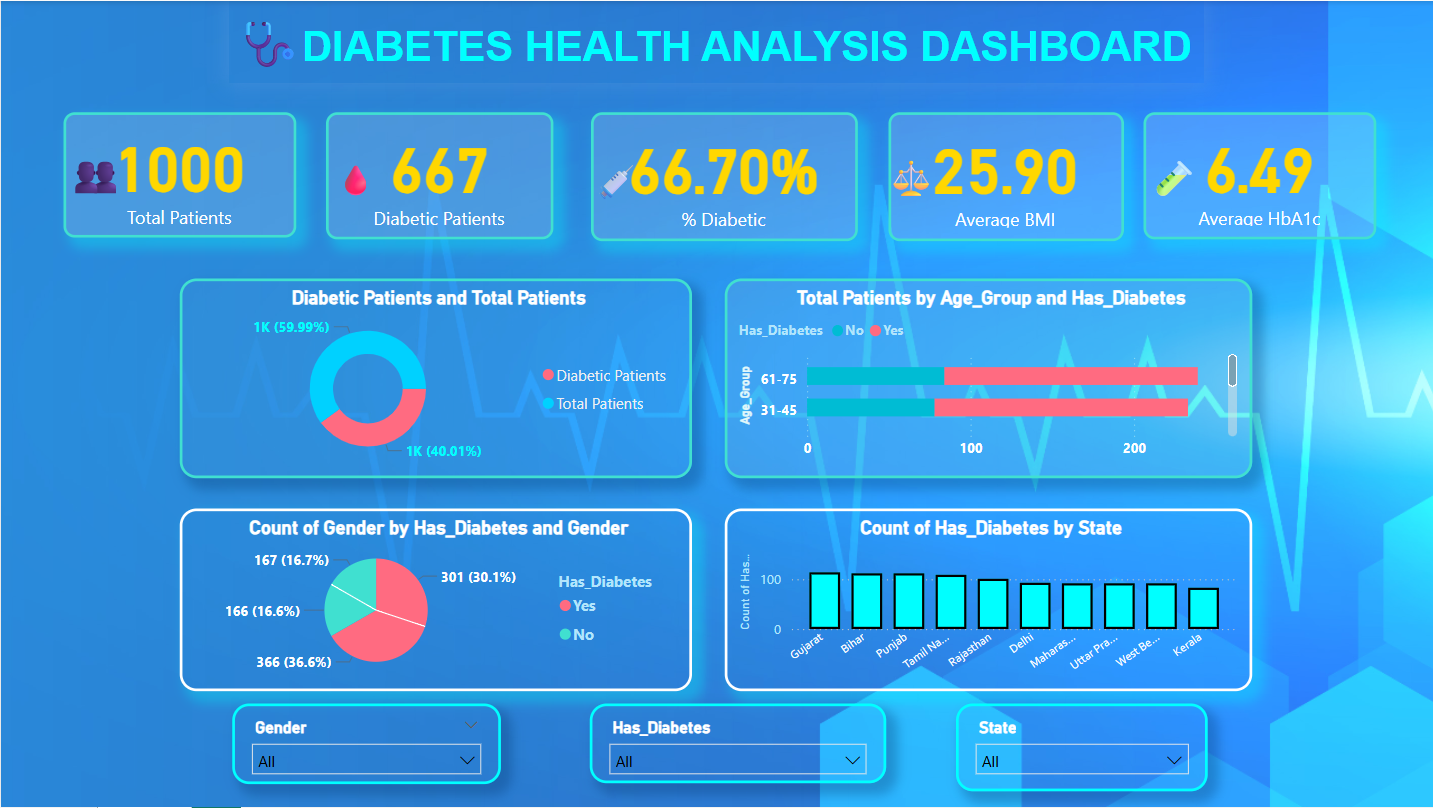

What the dashboard file says about the page in this screenshot:
{"tool":"powerbi","page":{"name":"Page 1","canvas":[1280,720],"ordinal":0},"visuals":[{"type":"textbox","box":[203.2,0,871,73.7],"z":0},{"type":"card","fields":{"Values":["Diabetes_Health_Report_Cleaned.Total Patients"]},"box":[55.8,99.5,208.3,111.7],"z":1000},{"type":"textbox","box":[54.2,121.2,55,65],"z":2000},{"type":"card","fields":{"Values":["Diabetes_Health_Report_Cleaned.Diabetic Patients"]},"box":[290.8,99.5,203.3,113.3],"z":3000},{"type":"textbox","box":[294.2,136.2,41.7,46.7],"z":4000},{"type":"card","fields":{"Values":["Diabetes_Health_Report_Cleaned.% Diabetic"]},"box":[527.5,99.5,238.3,115],"z":5000},{"type":"textbox","box":[522.5,134.5,60,55],"z":6000},{"type":"card","fields":{"Values":["Diabetes_Health_Report_Cleaned.Average BMI"]},"box":[792.5,99.5,210,115],"z":7000},{"type":"textbox","box":[786.3,131.2,48.3,58.3],"z":8000},{"type":"card","fields":{"Values":["Diabetes_Health_Report_Cleaned.Average HbA1c"]},"box":[1020.6,99.5,208.3,113.3],"z":9000},{"type":"textbox","box":[1020.8,131.2,53.3,58.3],"z":10000},{"type":"donutChart","fields":{"Y":["Diabetes_Health_Report_Cleaned.Diabetic Patients","Diabetes_Health_Report_Cleaned.Total Patients"]},"box":[159.7,247.9,457.8,178.7],"z":11000},{"type":"pieChart","fields":{"Y":["CountNonNull(Diabetes_Health_Report_Cleaned.Gender)"],"Category":["Diabetes_Health_Report_Cleaned.Has_Diabetes"],"Series":["Diabetes_Health_Report_Cleaned.Gender"]},"box":[159.7,453.4,457.8,163],"z":12000},{"type":"barChart","fields":{"Category":["Diabetes_Health_Report_Cleaned.Age_Group"],"Y":["Diabetes_Health_Report_Cleaned.Total Patients"],"Series":["Diabetes_Health_Report_Cleaned.Has_Diabetes"]},"box":[646.5,247.9,471.2,178.7],"z":13000},{"type":"lineStackedColumnComboChart","fields":{"Category":["Diabetes_Health_Report_Cleaned.State"],"Y":["CountNonNull(Diabetes_Health_Report_Cleaned.Has_Diabetes)"]},"box":[646.5,453.4,471.2,163],"z":14000},{"type":"slicer","fields":{"Values":["Diabetes_Health_Report_Cleaned.Gender"]},"box":[206.2,627.1,240,71.7],"z":15000},{"type":"slicer","fields":{"Values":["Diabetes_Health_Report_Cleaned.Has_Diabetes"]},"box":[525.5,627.1,264.8,71.4],"z":16000},{"type":"slicer","fields":{"Values":["Diabetes_Health_Report_Cleaned.State"]},"box":[852.9,627.1,225,78.3],"z":17000}]}

Visuals, with their boxes in screenshot pixels (x1, y1, x2, y2), scaled from the page's 1280x720 canvas onto the 1433x808 screenshot:
textbox: box(227, 0, 1203, 83)
card - Diabetes_Health_Report_Cleaned.Total Patients: box(62, 112, 296, 237)
textbox: box(61, 136, 122, 209)
card - Diabetes_Health_Report_Cleaned.Diabetic Patients: box(326, 112, 553, 239)
textbox: box(329, 153, 376, 205)
card - Diabetes_Health_Report_Cleaned.% Diabetic: box(591, 112, 857, 241)
textbox: box(585, 151, 652, 213)
card - Diabetes_Health_Report_Cleaned.Average BMI: box(887, 112, 1122, 241)
textbox: box(880, 147, 934, 213)
card - Diabetes_Health_Report_Cleaned.Average HbA1c: box(1143, 112, 1376, 239)
textbox: box(1143, 147, 1202, 213)
donutChart - Diabetes_Health_Report_Cleaned.Diabetic Patients x Diabetes_Health_Report_Cleaned.Total Patients: box(179, 278, 691, 479)
pieChart - CountNonNull(Diabetes_Health_Report_Cleaned.Gender) x Diabetes_Health_Report_Cleaned.Has_Diabetes: box(179, 509, 691, 692)
barChart - Diabetes_Health_Report_Cleaned.Age_Group x Diabetes_Health_Report_Cleaned.Total Patients: box(724, 278, 1251, 479)
lineStackedColumnComboChart - Diabetes_Health_Report_Cleaned.State x CountNonNull(Diabetes_Health_Report_Cleaned.Has_Diabetes): box(724, 509, 1251, 692)
slicer - Diabetes_Health_Report_Cleaned.Gender: box(231, 704, 500, 784)
slicer - Diabetes_Health_Report_Cleaned.Has_Diabetes: box(588, 704, 885, 784)
slicer - Diabetes_Health_Report_Cleaned.State: box(955, 704, 1207, 792)
